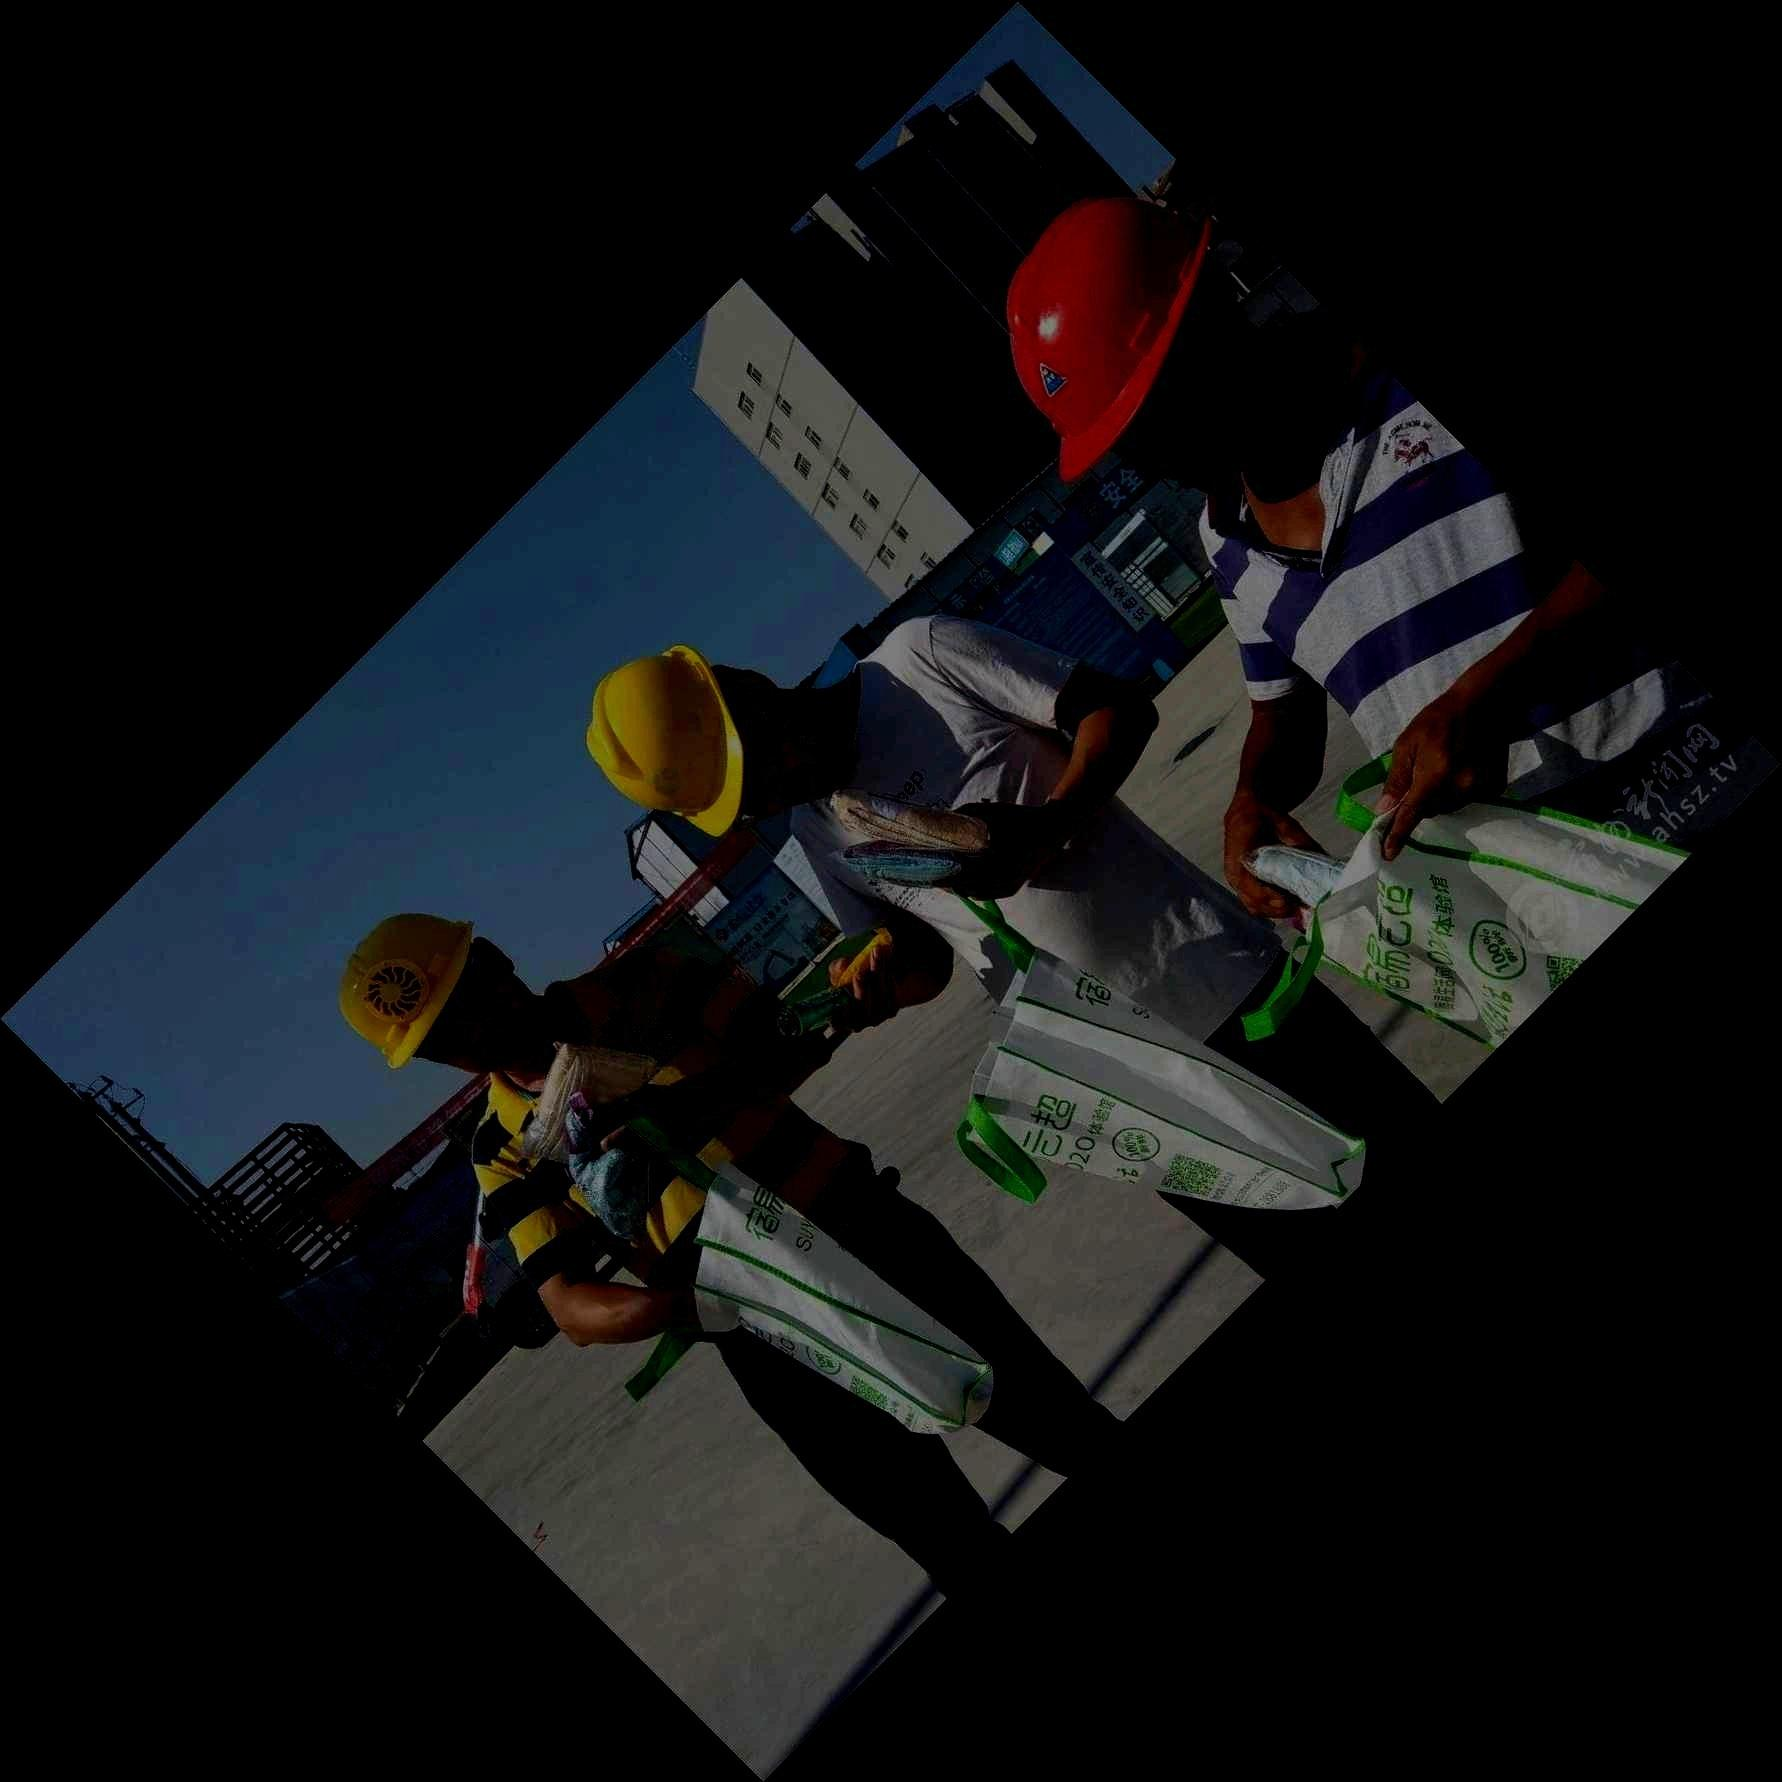helmet: (1005, 194, 1271, 485), (584, 641, 826, 839), (338, 912, 539, 1074)
